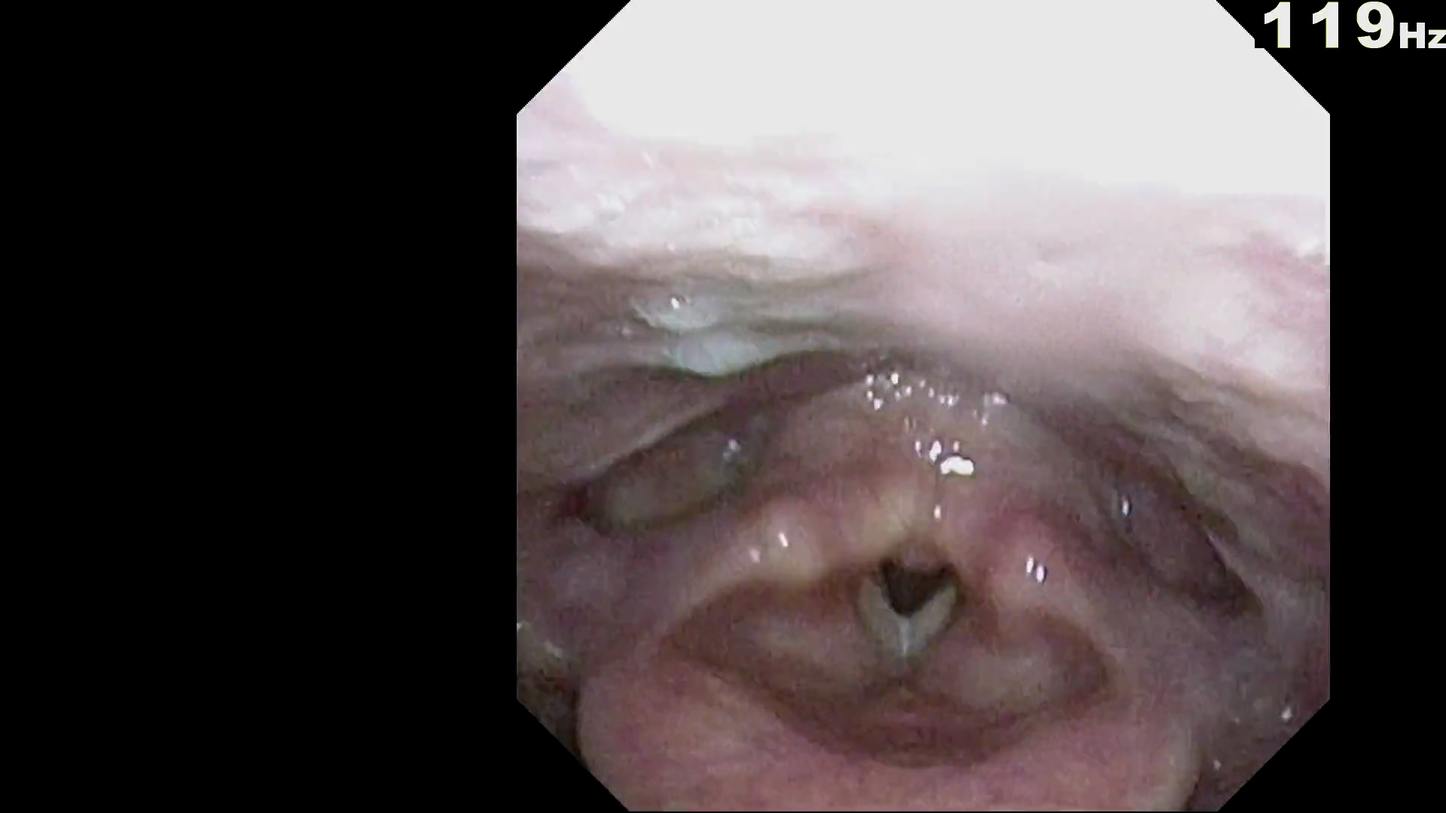epiglottis: (632, 688, 1191, 803)
trachea: (849, 542, 968, 660)
